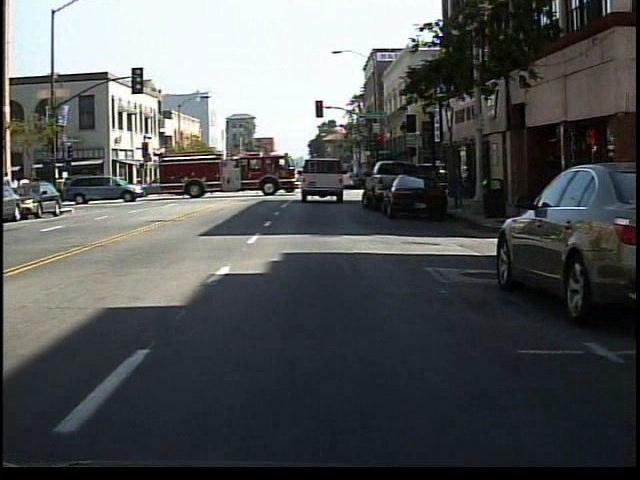person: (53, 172, 69, 208)
